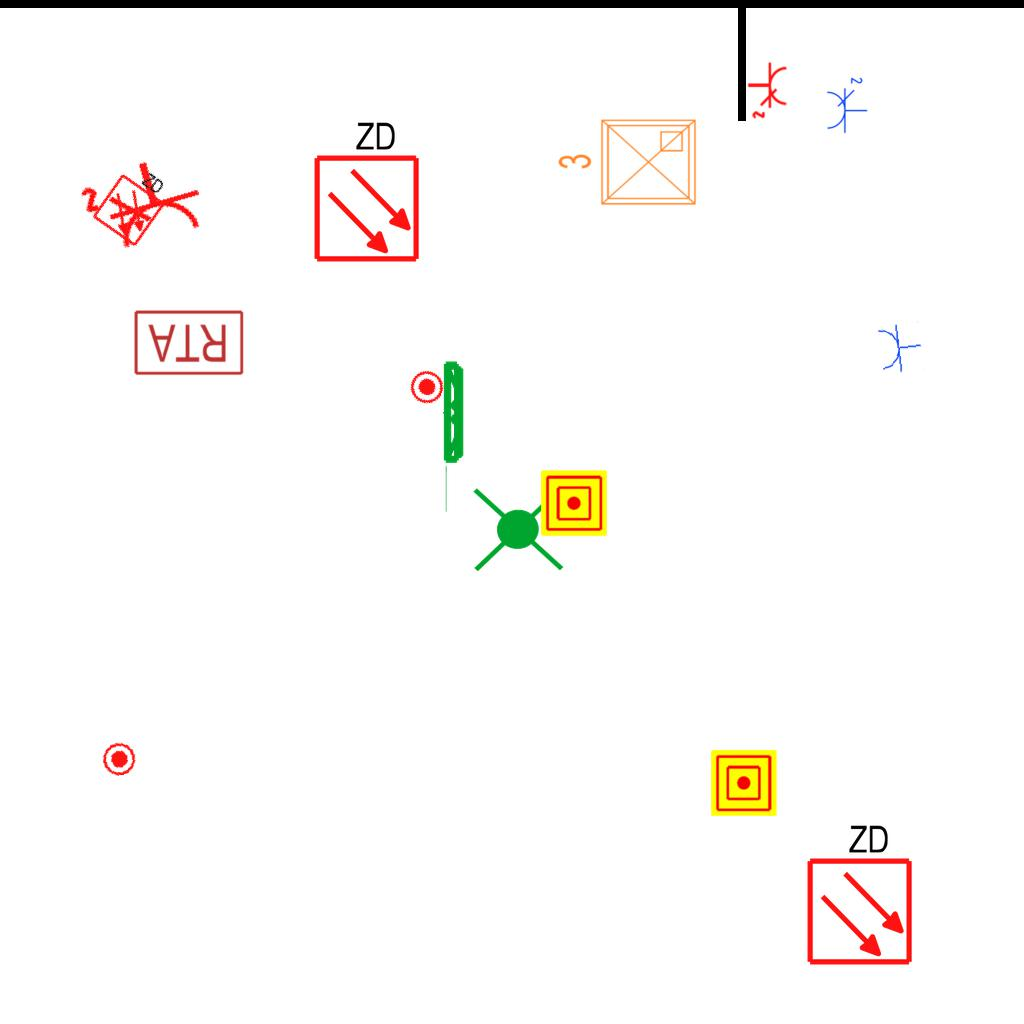Einbaudownlights_LED_Konferenzraeume: (553, 112, 703, 216)
NAM-Nichtautomatischer_Melder: (711, 750, 777, 816), (541, 470, 607, 536)
Notlichtbaustein_in_Allgemeinbeleuchtug_engebaut_Einbau_(1UG_und_2UG_Aufbauvaria: (468, 479, 568, 582)
Ruf-und_Abstelltaster: (133, 308, 247, 377)
Schukosteckdose_einfach: (875, 320, 925, 375)
Schukosteckdose_mehrfach: (73, 143, 214, 261), (745, 60, 789, 120), (824, 74, 868, 134)
Sicherheitsleuchte_Wandeinbau: (442, 358, 467, 517)
Taster: (404, 364, 449, 409), (100, 739, 139, 778)
ZD_Melder_in_Zwischendecke_mit_Revisionsoeffnung_mind_40_x_40_cm: (801, 818, 915, 967), (308, 115, 422, 264), (88, 155, 179, 249)
